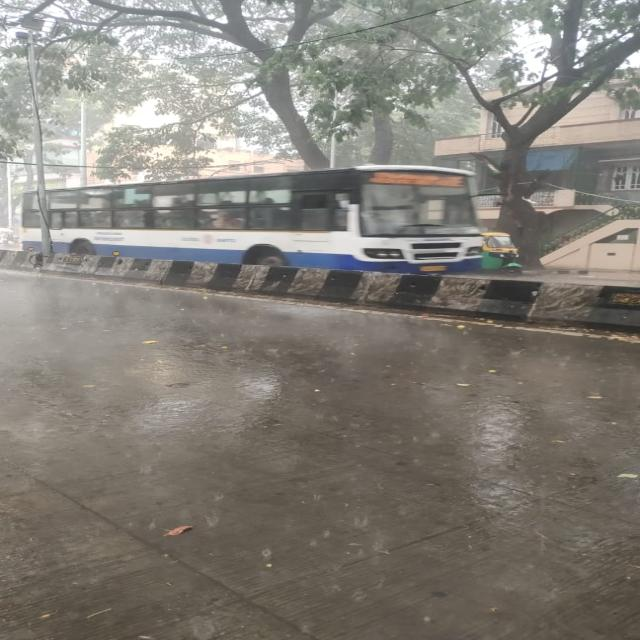bus: (12, 160, 494, 268)
display: (368, 170, 472, 188)
dnumber: (445, 176, 464, 186)
